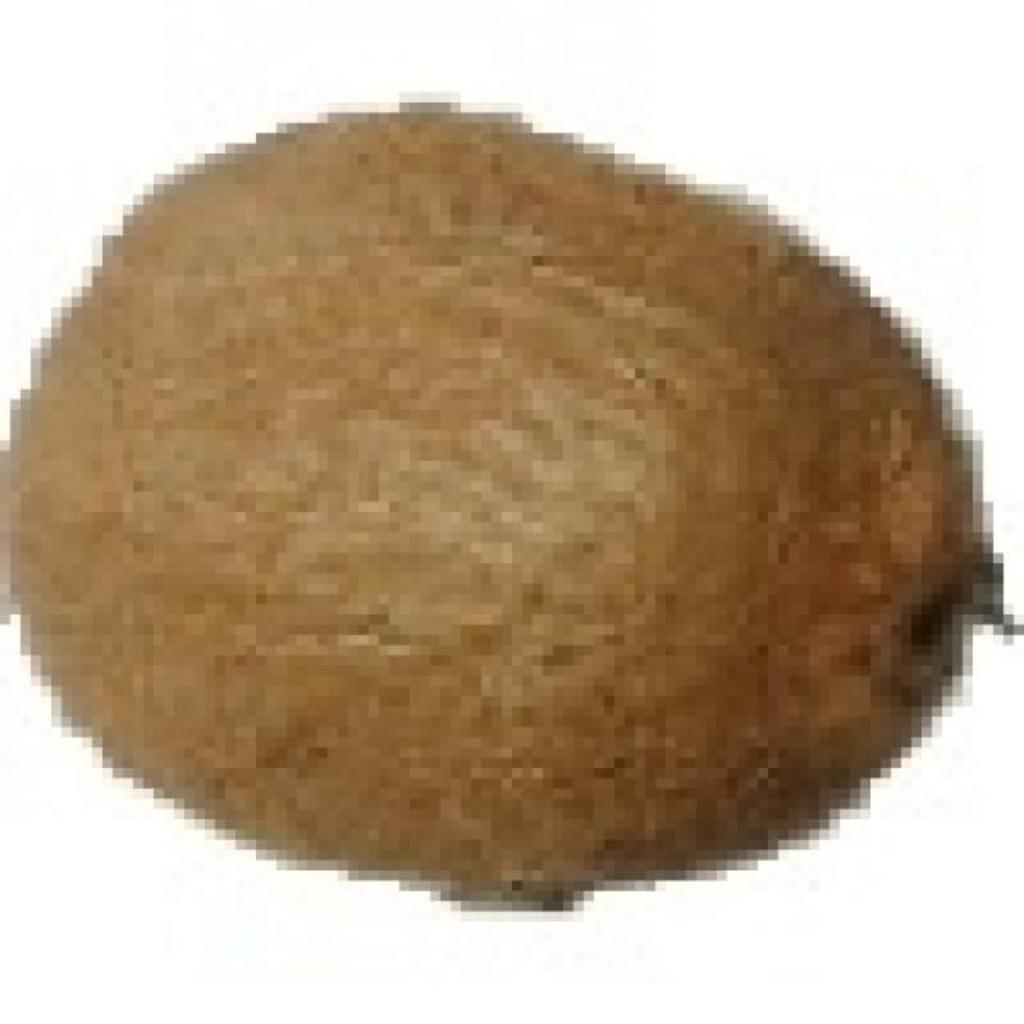kiwi: (0, 92, 963, 881)
